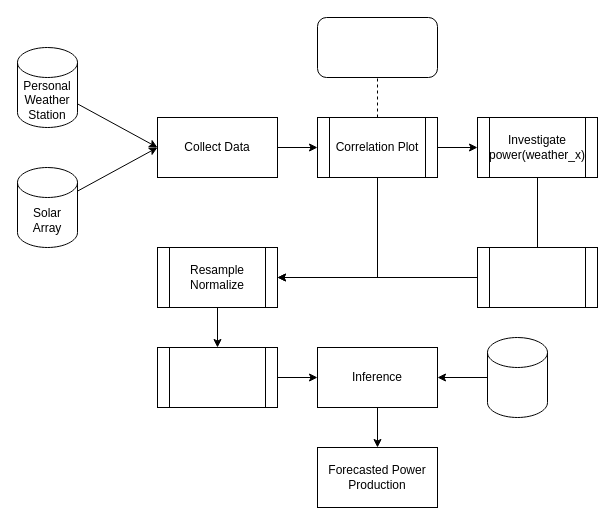
Image size: 615x525. Some labels were removed from this diagram. Each missing label, with the box of its shape:
aggregate to 15 minute intervals: (316, 16, 438, 78)
LSTM: (156, 346, 278, 408)
NOAA Forecast: (486, 336, 548, 418)
Principal Component Analysis: (476, 246, 598, 308)
